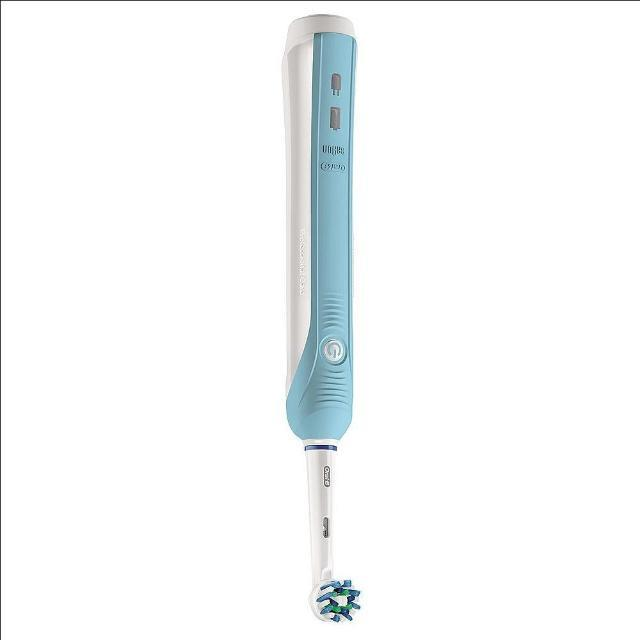toothbrush: (244, 0, 398, 640)
